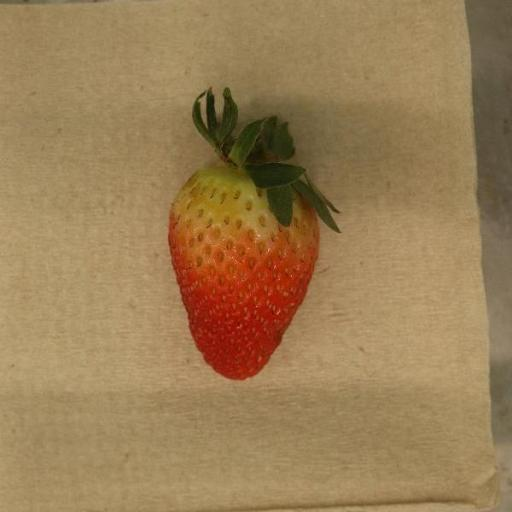Strawberry: (168, 88, 340, 380)
